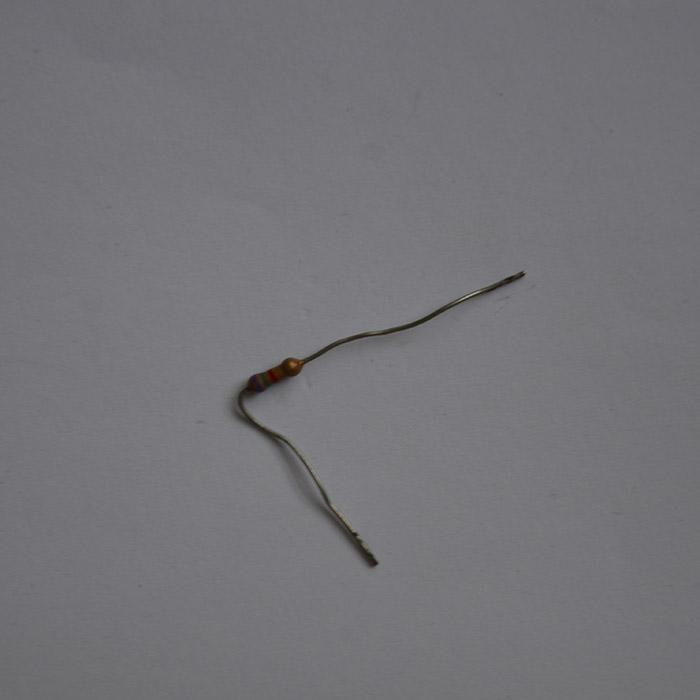resistor: (247, 357, 303, 392)
